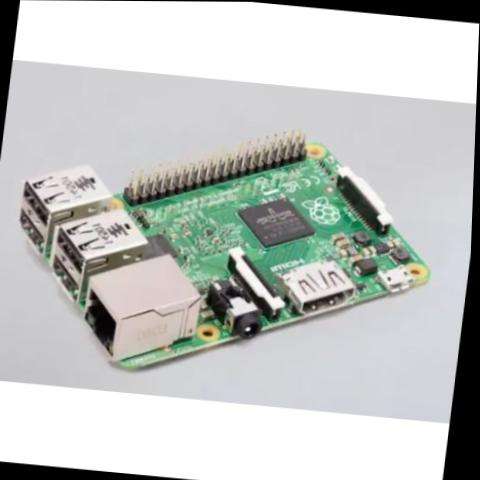Raspberry-Pi-2-Model-B: (0, 89, 471, 414)
